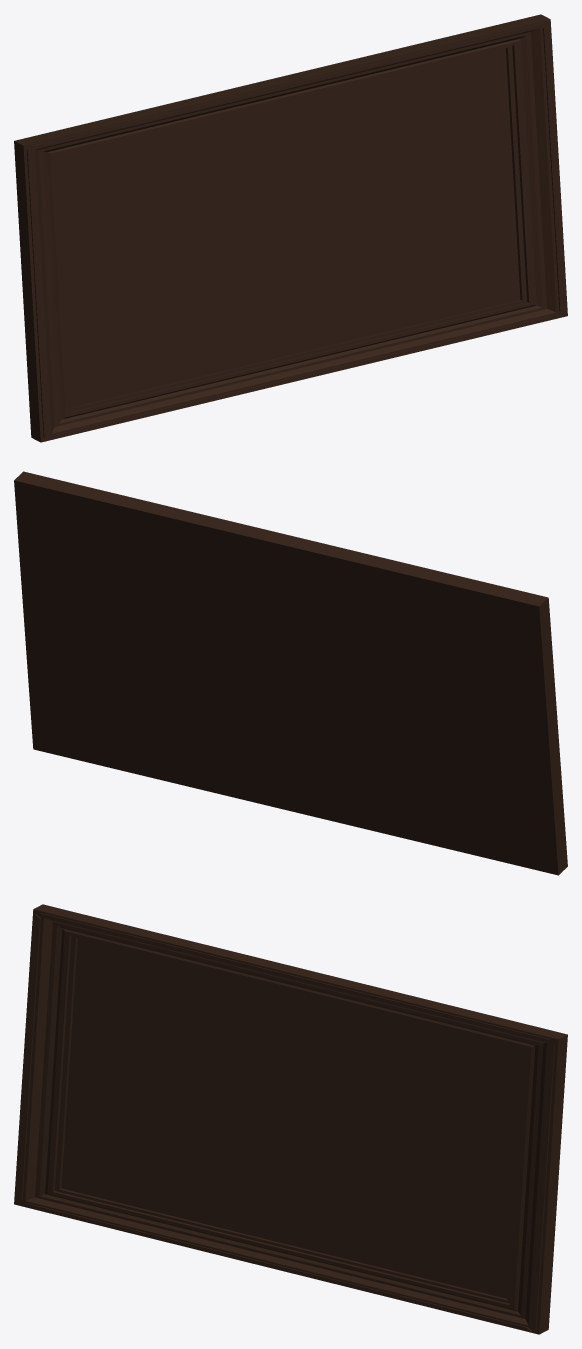
3 views of the same model, one above another, from view 1: azimuth 30°, elevation 25°; view 2: azimuth 150°, elevation 25°; view 3: azimuth 330°, elevation 25° (orthographic).
Visible parts, largest first — view 1: Paint 5.003, Paint 5.001; view 2: Paint 5.001; view 3: Paint 5.003, Paint 5.001.
Part boxes in pixels (x1,y1,x2,y2): Paint 5.003: (58, 48, 520, 406); Paint 5.001: (14, 14, 567, 442); Paint 5.001: (14, 471, 567, 875); Paint 5.003: (61, 938, 523, 1298); Paint 5.001: (14, 904, 567, 1334).
Size of the model in its own units: 569 by 295 by 53.31.
